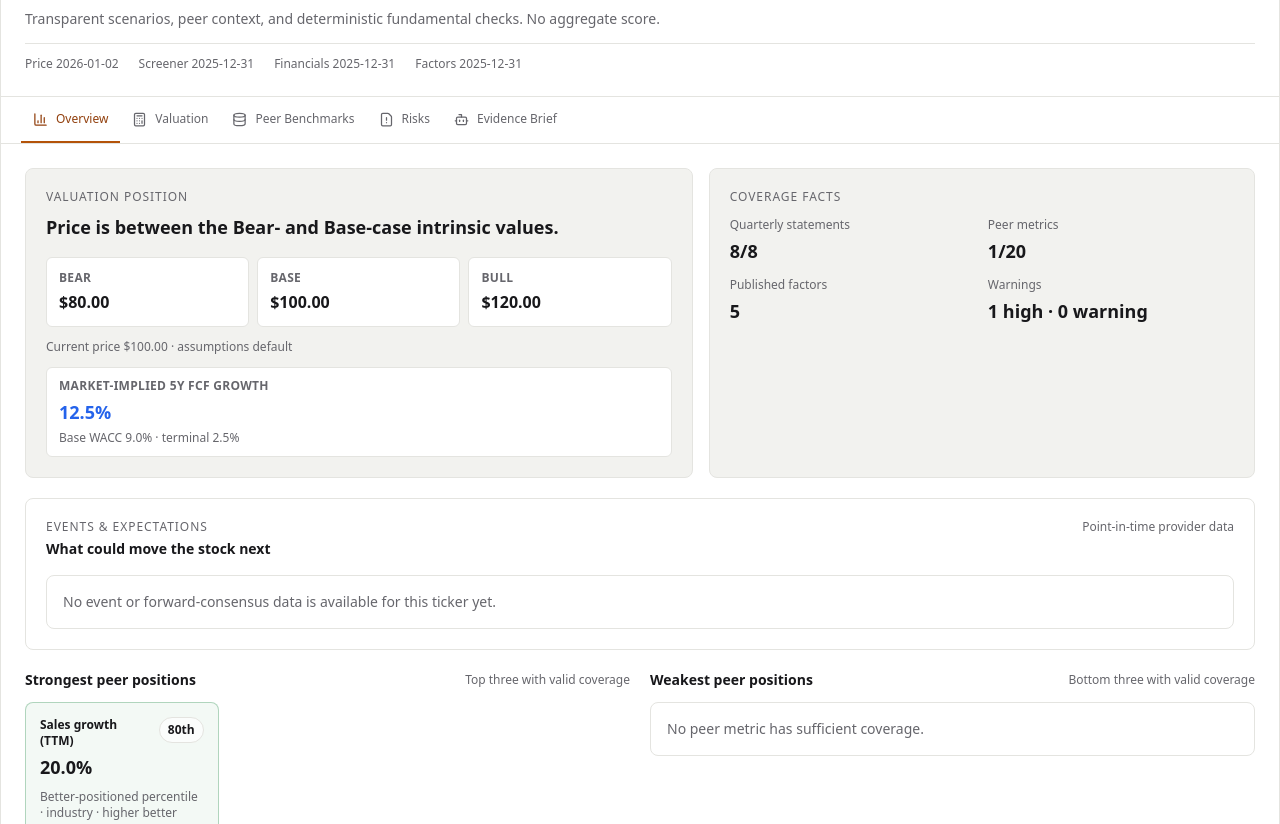
DecisionCockpit › colors better-positioned percentiles and keeps unavailable metrics neutral
This screenshot has width=1280, height=824.
What coordinates should you click on to do the following:
click the button "Peer Benchmarks"
I would click on:
 (293, 120)
Its box is x1=220 y1=97 x2=366 y2=143.
(page scrolled)
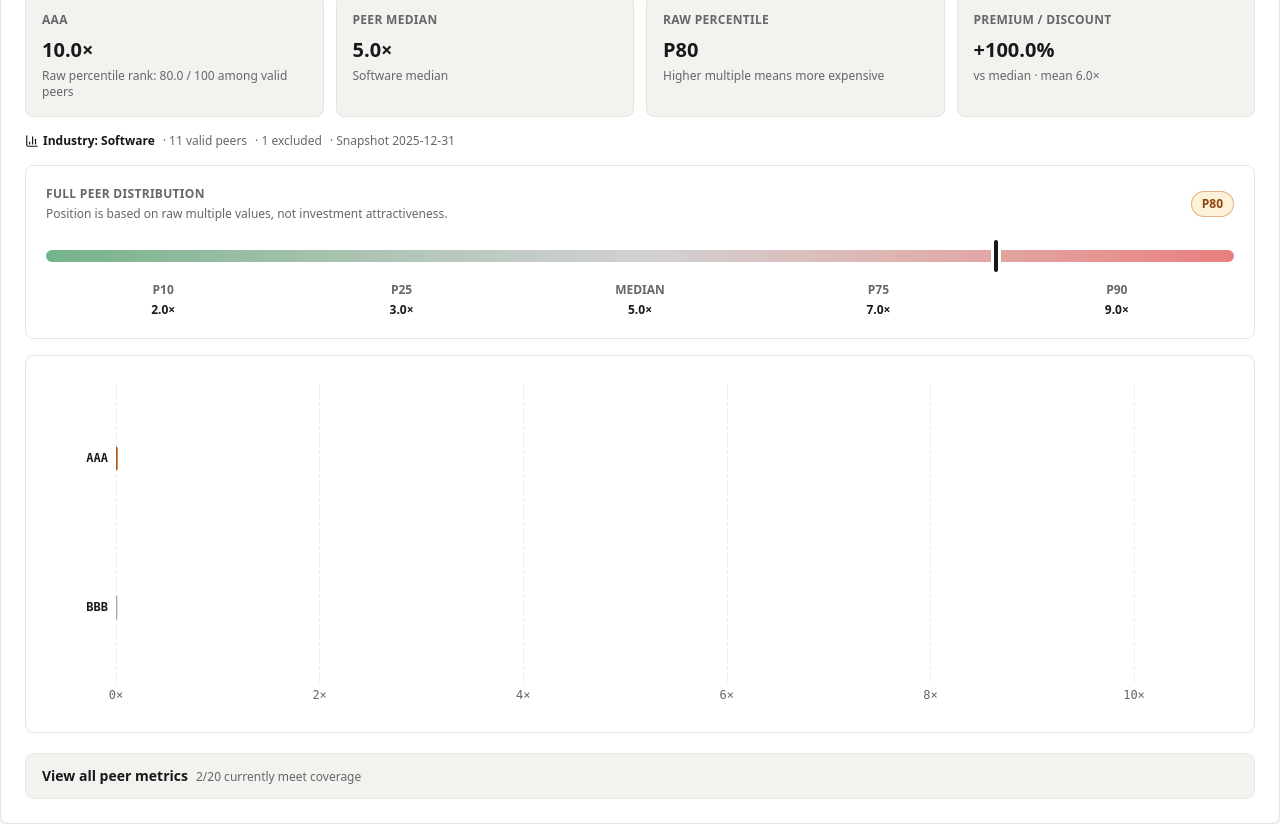
What coordinates should you click on to do the following:
click the heading "View all peer metrics"
I would click on:
 (115, 776)
Its box is x1=26 y1=754 x2=1254 y2=798.
(page scrolled)
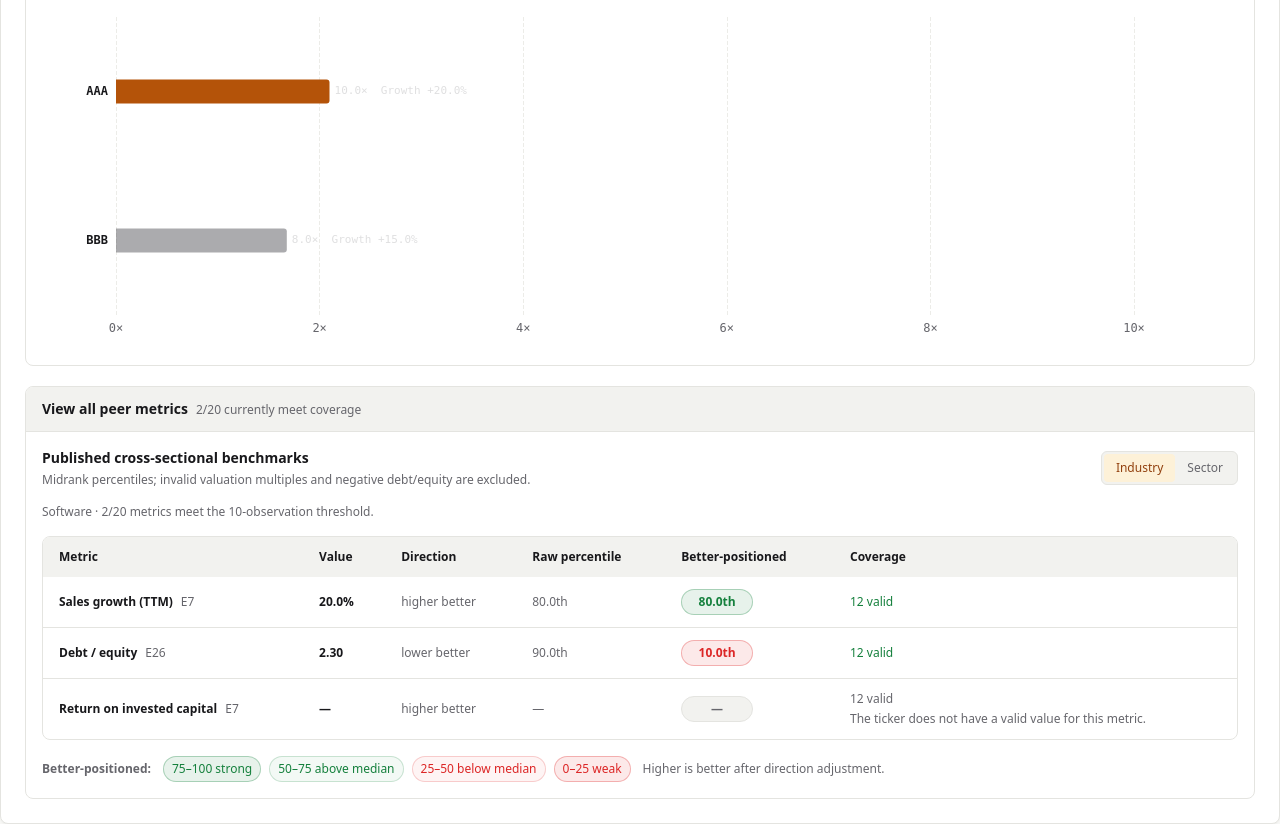
Now the element named "Better-positioned legend" shows "75–100 strong", box x1=172 y1=760 x2=252 y2=777
